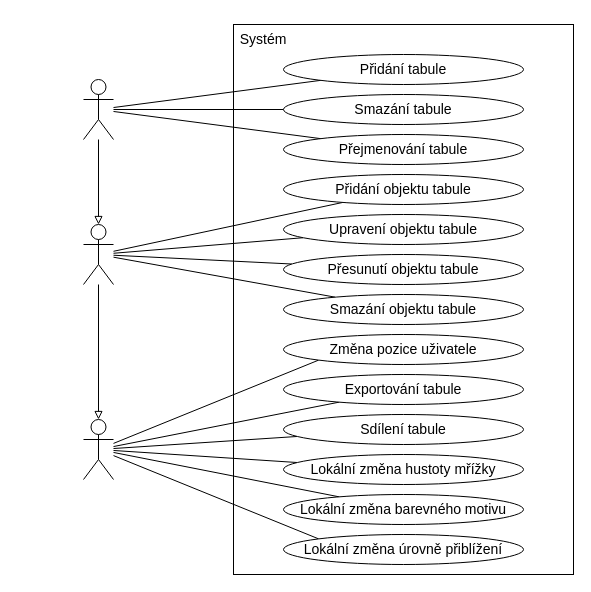
This 591x592 diagram has some shape labels left out. The centre of each missing label's shape, as x and y in pixels:
"Uživatel (režim zobrazení)" belongs at point 98,449.
"Uživatel (režim úpravy)" belongs at point 98,254.
"Zakladatel tabule" belongs at point 98,109.
